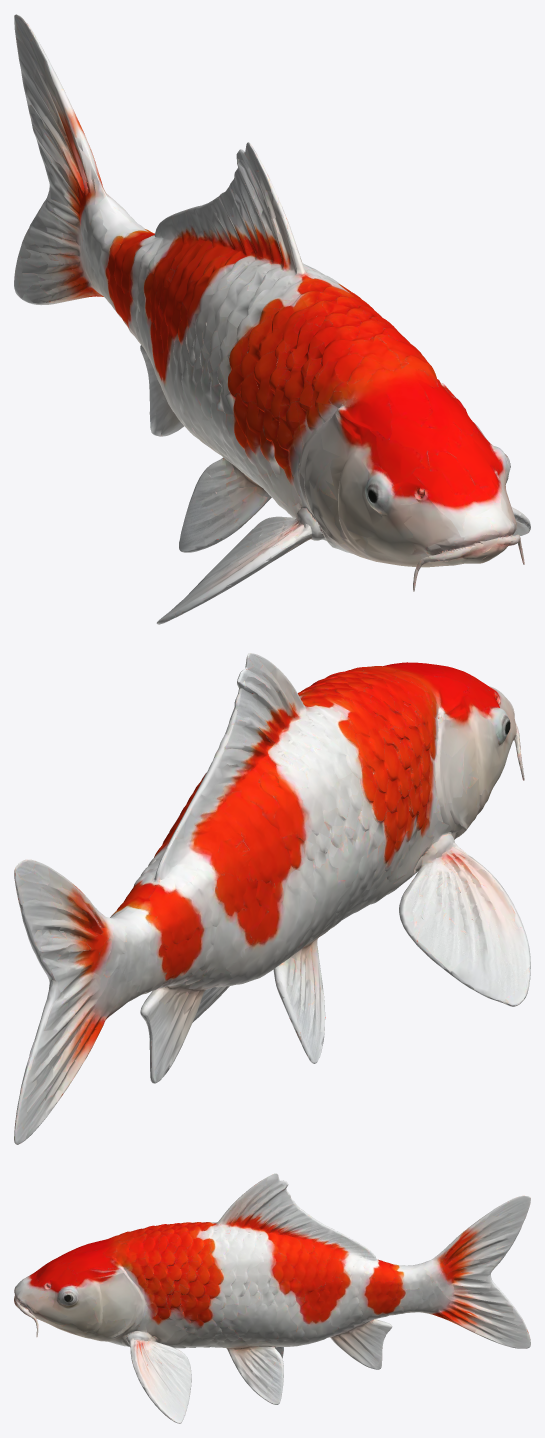
File: koi.glb
3 renders of one model, top to bottom at view 1: azimuth 30°, elevation 25°; view 2: azimuth 150°, elevation 25°; view 3: azimuth 270°, elevation 25°, orthographic. The views are drawn at different scales.
Visible parts, largest first — view 1: Mesh_0; view 2: Mesh_0; view 3: Mesh_0.
Part boxes in pixels (left/top/right/bottom): Mesh_0: left=14, top=14, right=530, bottom=624; Mesh_0: left=14, top=653, right=530, bottom=1144; Mesh_0: left=14, top=1173, right=530, bottom=1423.
Size of the model in its own units: 0.4452 by 0.4564 by 0.9999.
1 material, 1 textured.
